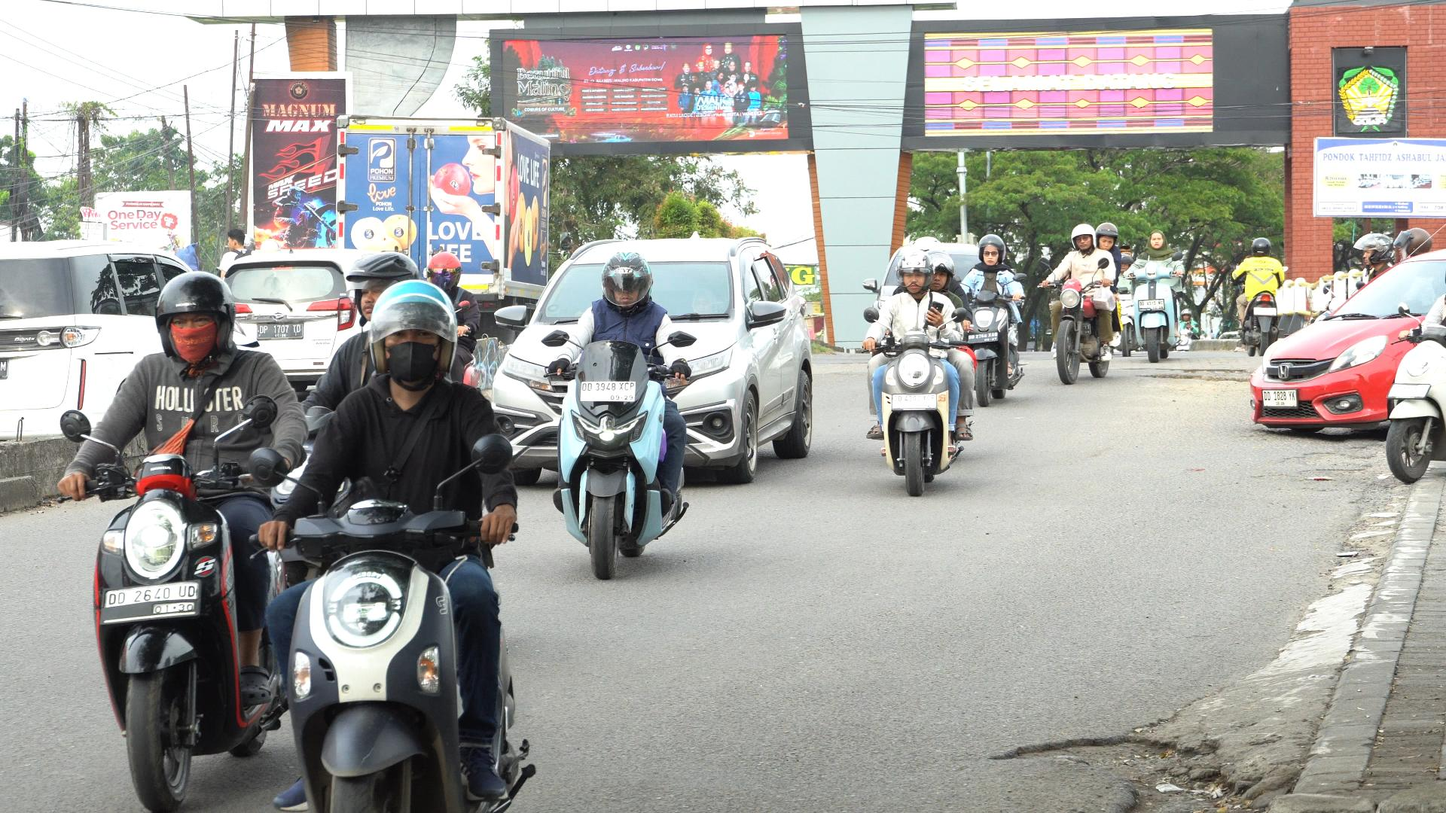number-plate: (99, 578, 201, 620), (575, 378, 637, 401)
